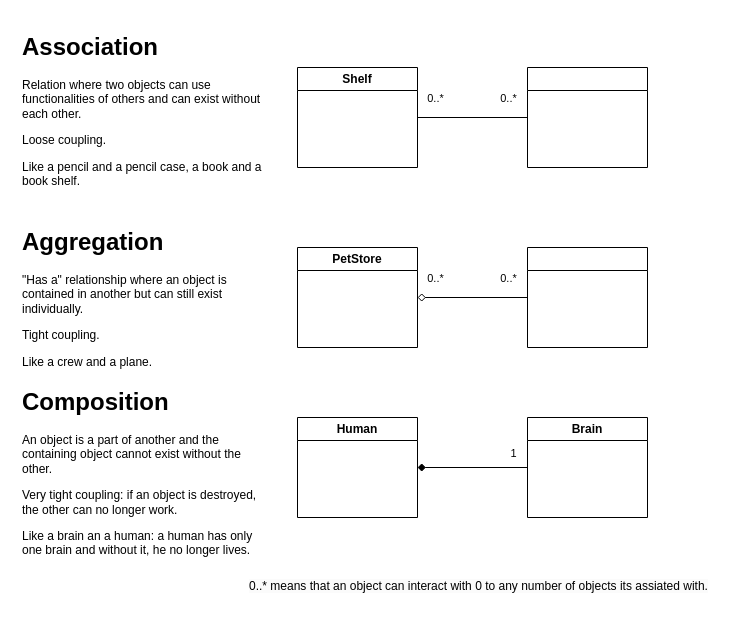
Some shapes in this 754 by 629 pixel diagram are drawn without their labels. Each missing label, with the centre of its shape:
"Book" goes at point (587, 117).
"Pet" goes at point (587, 297).
